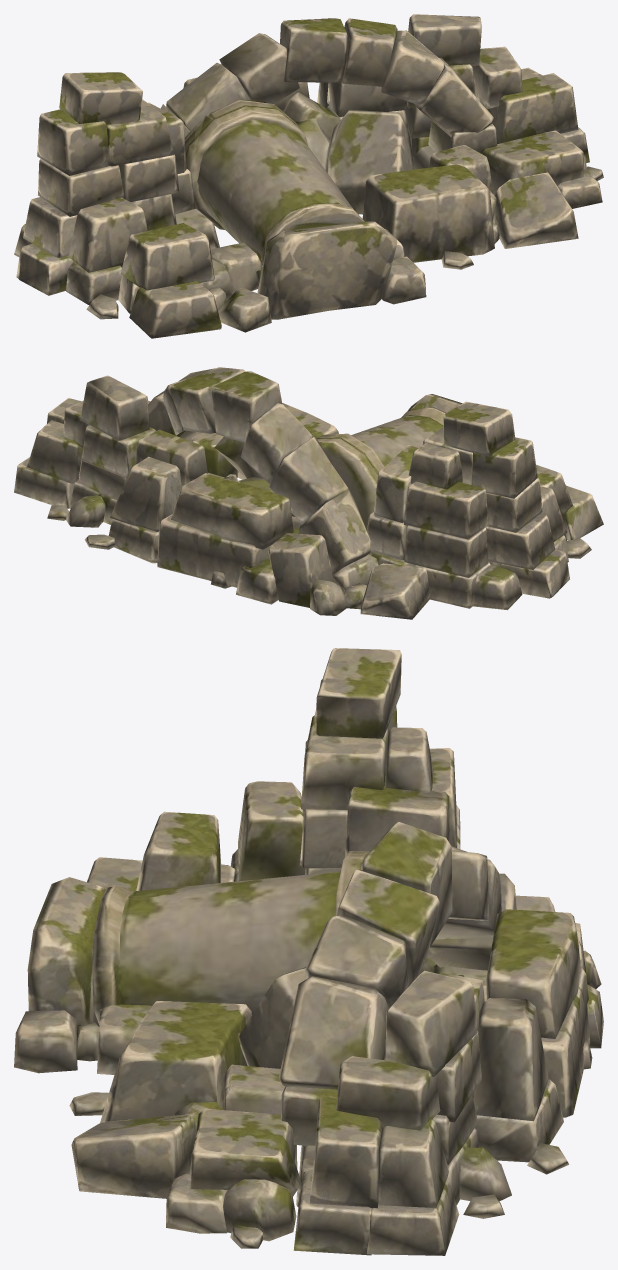
File: kit-hc-rubble-collapse.glb
3 views of the same model, one above another, from view 1: azimuth 30°, elevation 25°; view 2: azimuth 150°, elevation 25°; view 3: azimuth 270°, elevation 25° (orthographic). The views are drawn at different scales.
Parts seen in each view (by area): view 1: kit-hc-rubble-collapse; view 2: kit-hc-rubble-collapse; view 3: kit-hc-rubble-collapse.
Part boxes in pixels (box(x1,y1,x2,y2)): kit-hc-rubble-collapse: box(14, 14, 603, 338); kit-hc-rubble-collapse: box(14, 367, 603, 619); kit-hc-rubble-collapse: box(14, 648, 603, 1255).
Bounding box in the file's own units: 7.76 × 2.6 × 5.
1 material, 1 textured.
